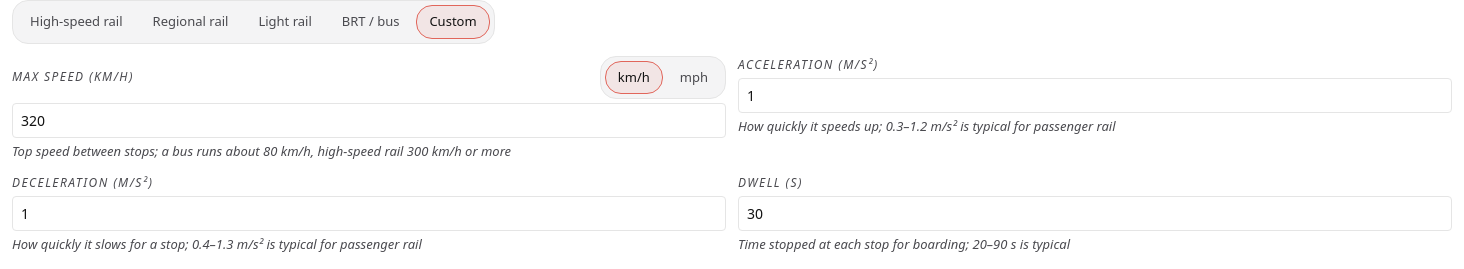
Test: VehicleFields › speed unit › comes back to km/h when toggled again
Click the radio button with test id "vehicle-speed-unit-option-mph" at (694,76), box [680, 68, 708, 86]
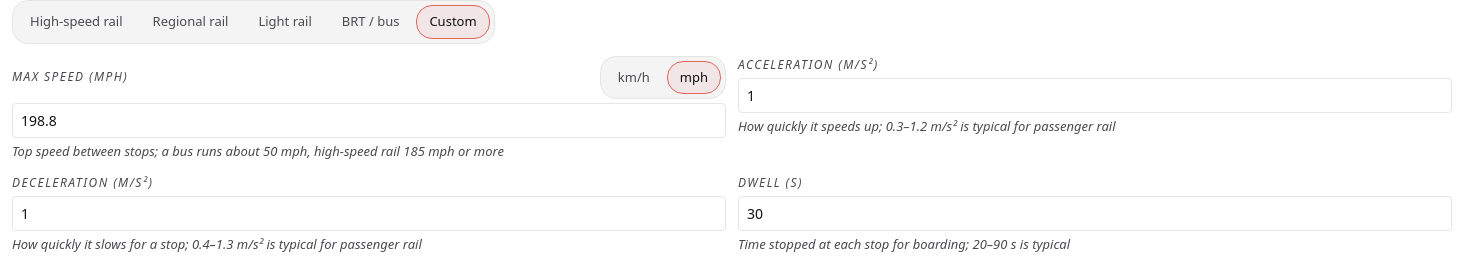
Click the radio button with test id "vehicle-speed-unit-option-kmh" at (634,76), box [618, 68, 650, 86]
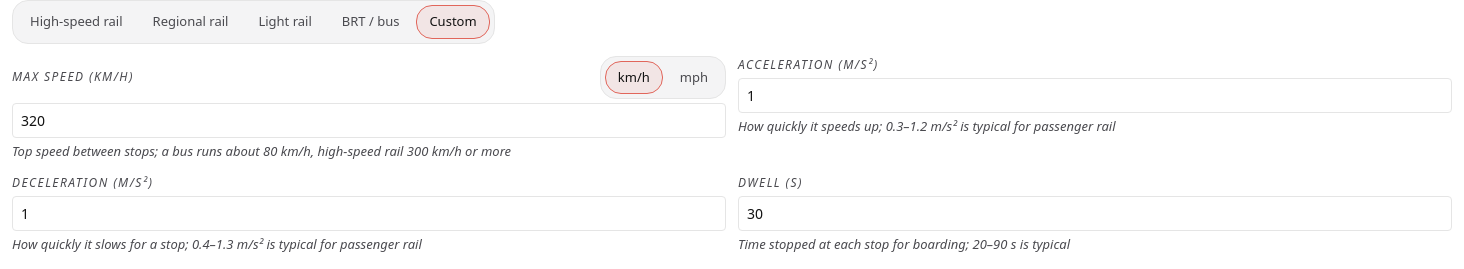
Now the label with test id "vehicle-max-speed-label" reads "Max speed (km/h)", box [12, 68, 134, 85]
